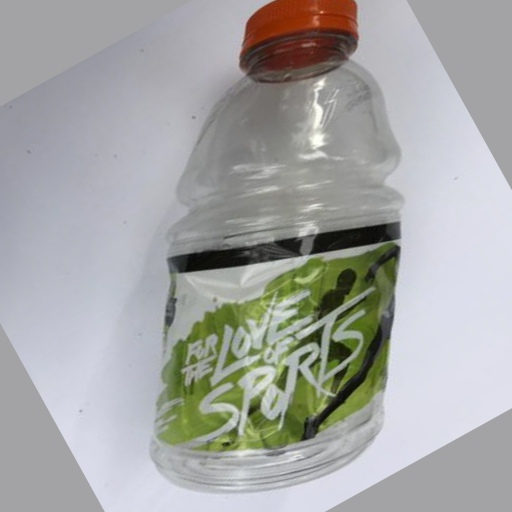Plastic_0: (157, 4, 402, 486)
